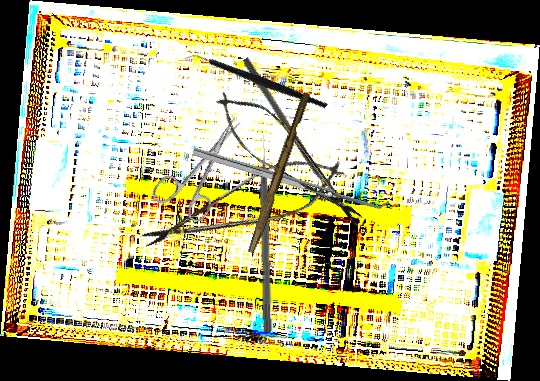Chopper: (182, 12, 329, 152)
Iris Scissors: (148, 104, 263, 230)
Micro Scissor: (202, 78, 378, 239), (133, 142, 354, 268)
Pusher: (240, 56, 338, 205), (259, 134, 274, 333)
Scalpel Handle: (247, 90, 312, 256)
Spatula Surgical: (192, 139, 390, 215)
